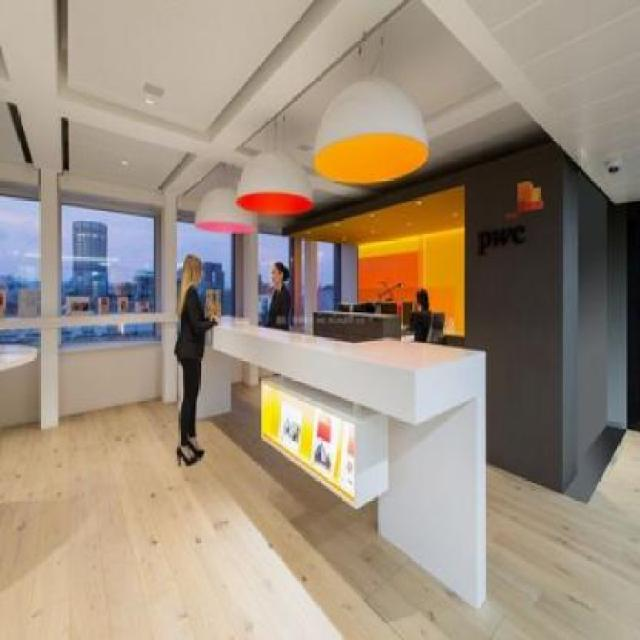frontdesk: (191, 289, 501, 618)
